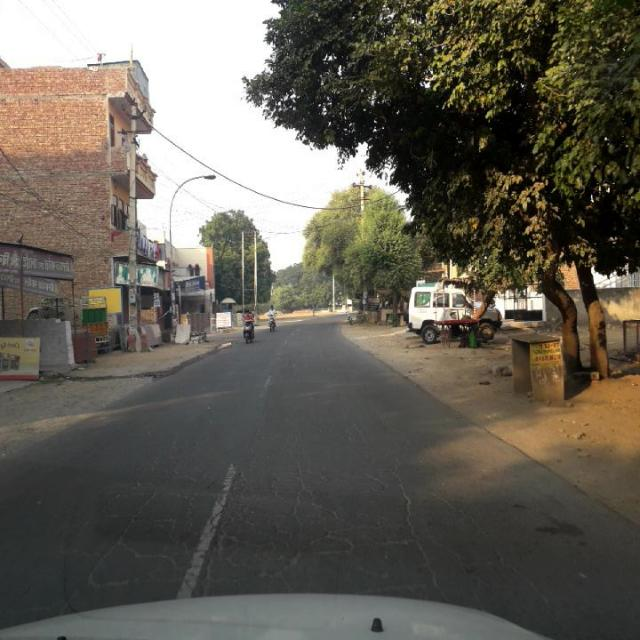crack: (73, 430, 499, 598)
